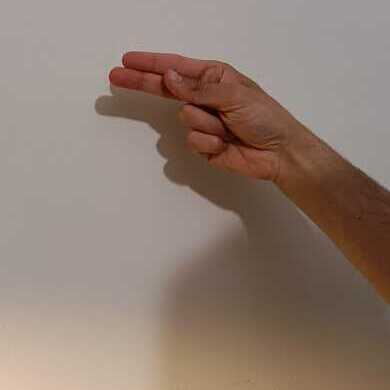H: (107, 49, 294, 183)
